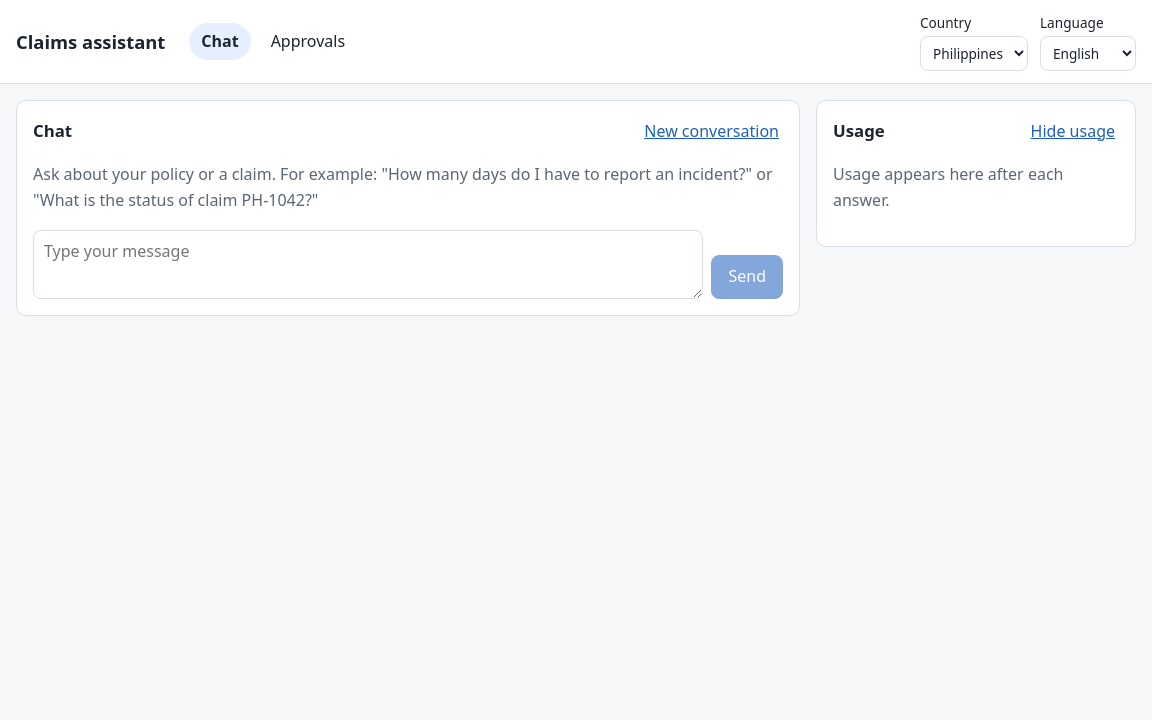
Test: approval screen › shows the drafted claim with its details
The image size is (1152, 720).
In the text box labelled "Type your message": [368, 264] box x1=33 y1=230 x2=704 y2=299, type "I want to file a claim"
Then press Enter
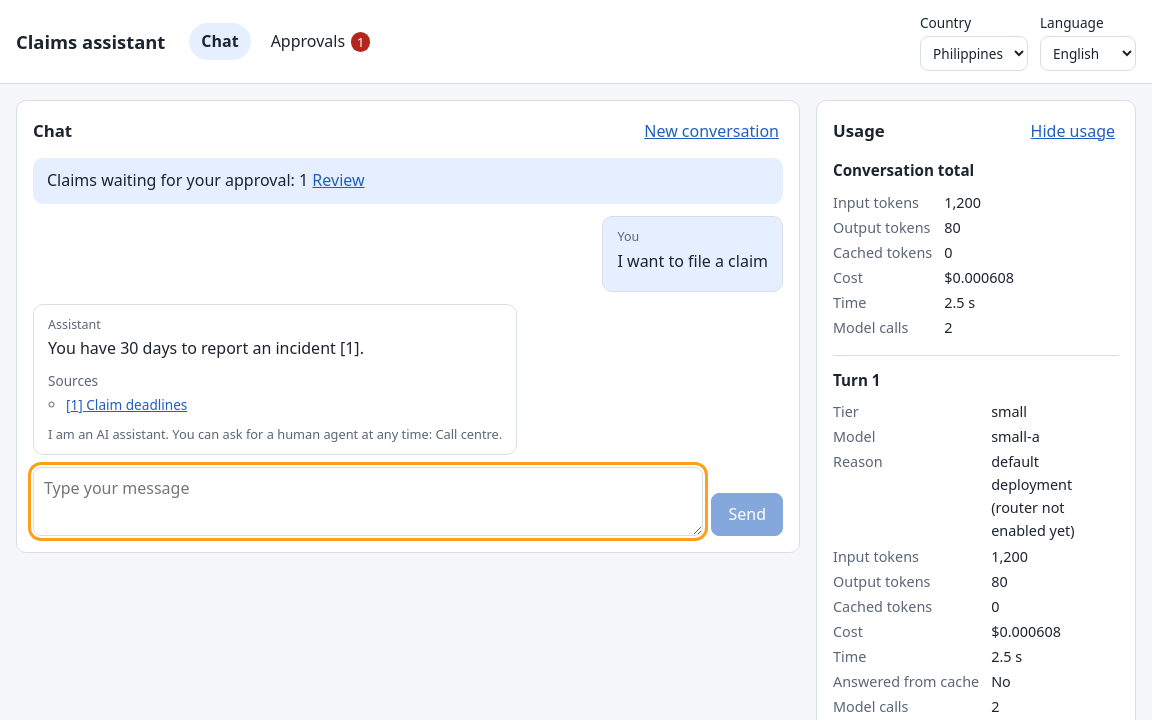
Click the link "Review": [338, 180] box x1=312 y1=169 x2=365 y2=191
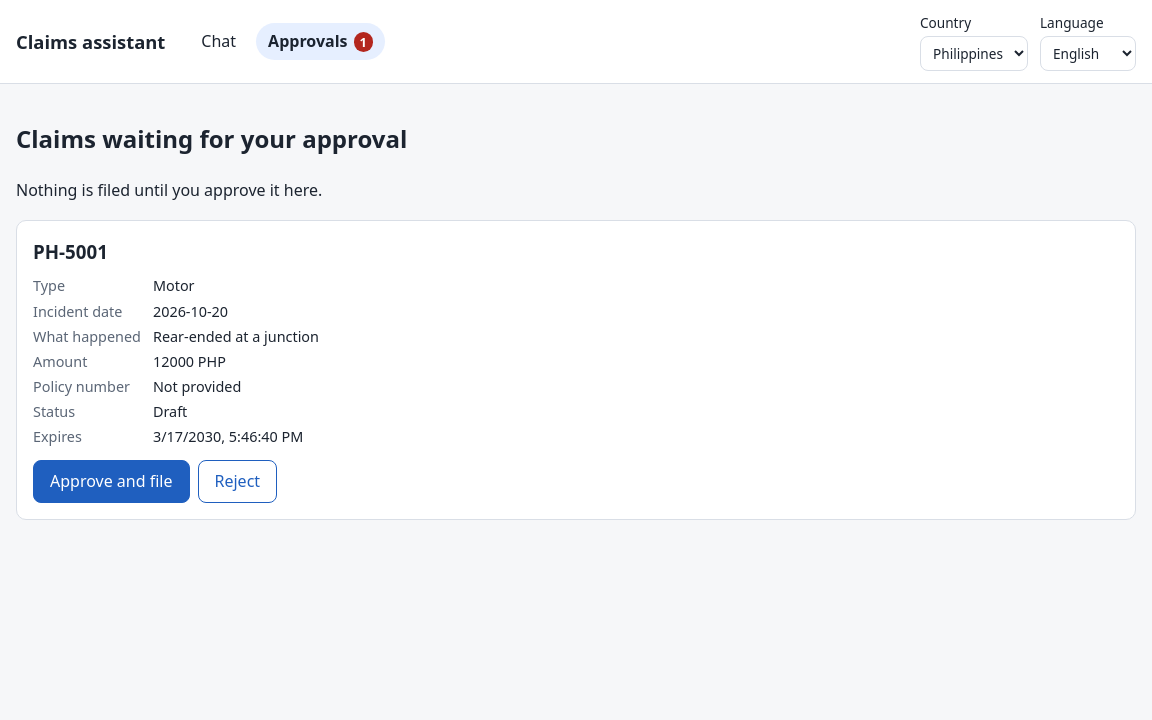
Check: the heading "PH-5001" is shown, box x1=33 y1=238 x2=108 y2=264
Check: the text "Motor" is shown, box x1=153 y1=276 x2=194 y2=296
Check: the text "2026-10-20" is shown, box x1=153 y1=302 x2=228 y2=320
